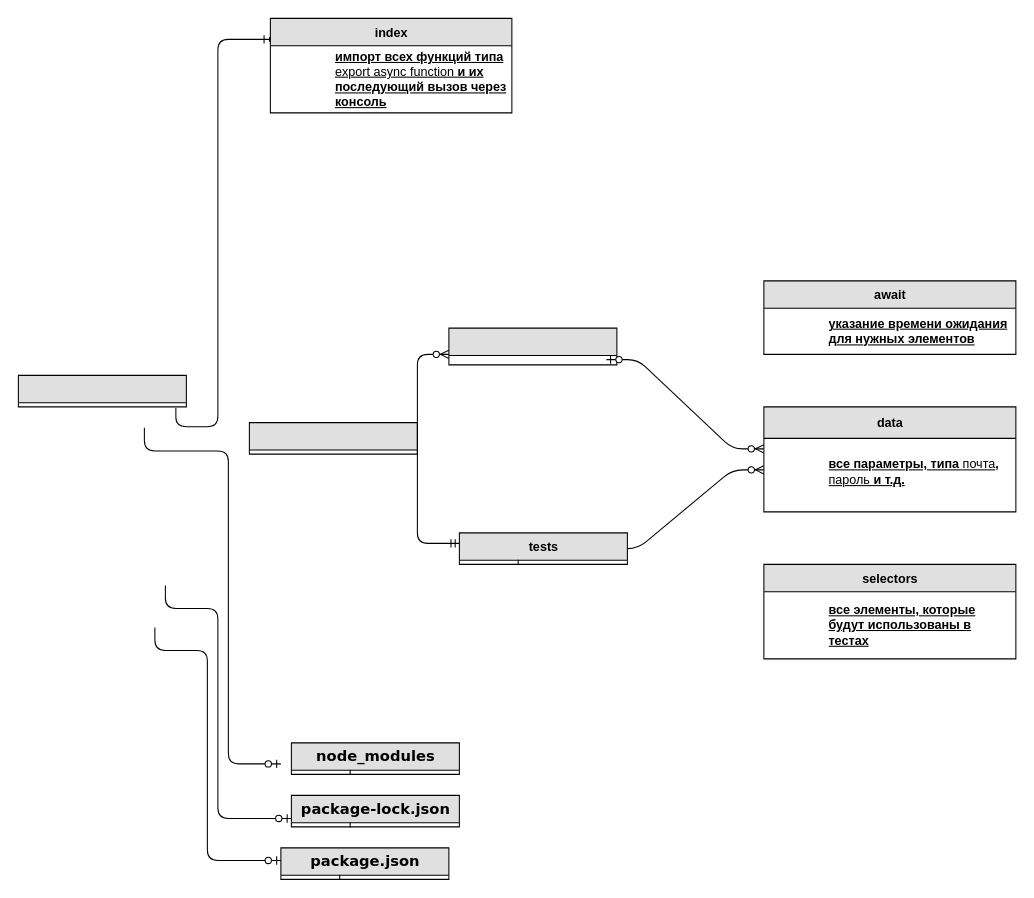
Some shapes in this 1034 by 898 pixel diagram are drawn without their labels. The centre of each missing label's shape, as x and y in pixels:
"datas" goes at (x=532, y=346).
"test cases" goes at (x=332, y=438).
"ПАПКА С ПРОЕКТОМ" goes at (x=101, y=390).
